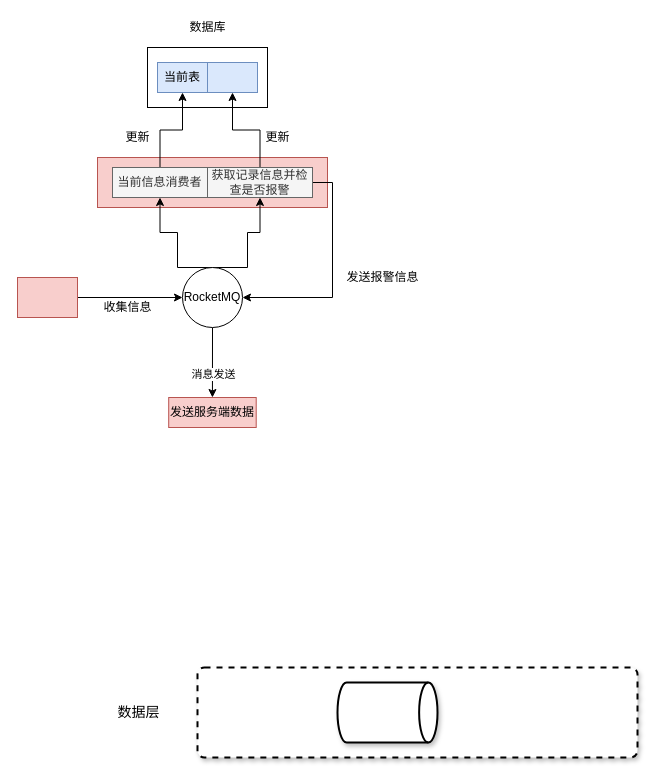
Image size: 662x782. Some labels were removed from this diagram. The centre of each missing label's shape, as x and y in pixels:
记录表: the point at 232,77
采集程序: the point at 47,297
